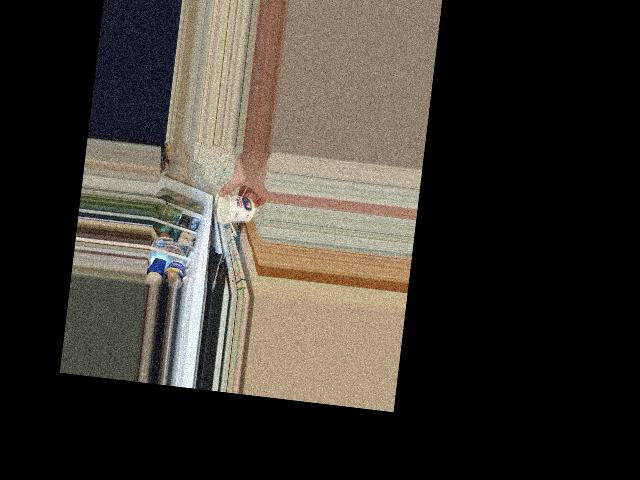cotage: (213, 190, 260, 228)
